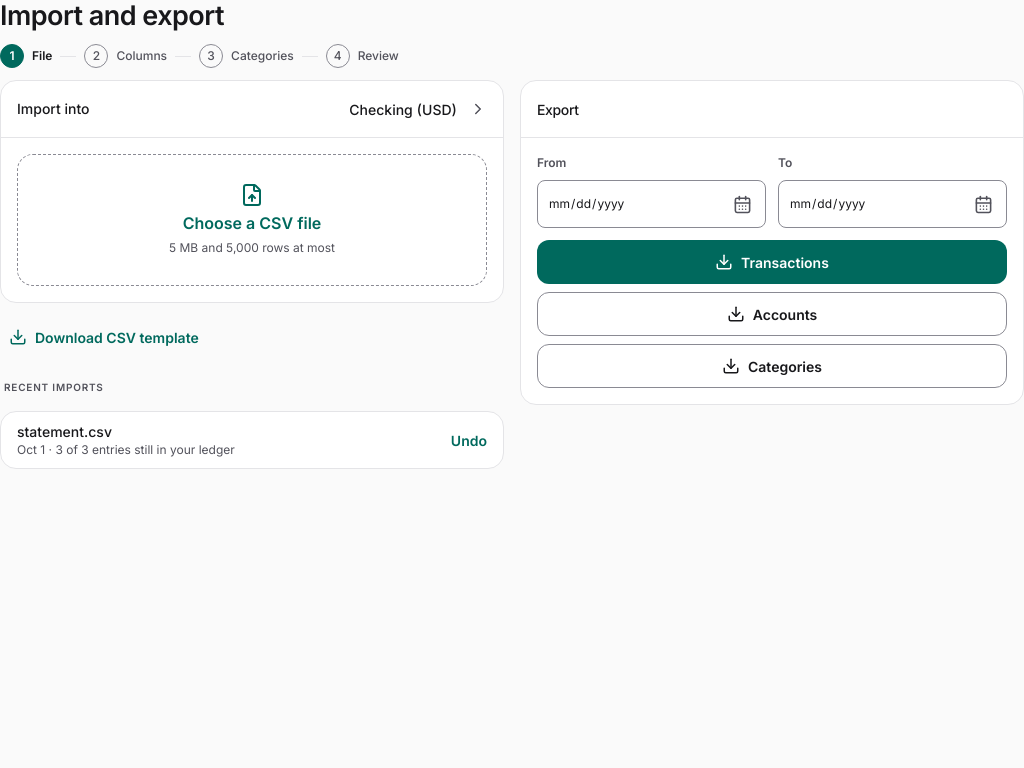
Scenario: ImportPage › asks before undoing in a centred question and does nothing when the owner keeps the entries
Expected: the heading "Recent imports" is shown, [4, 381, 104, 393]
Click the button "statement.csv": (64,431) [1, 412, 503, 468]
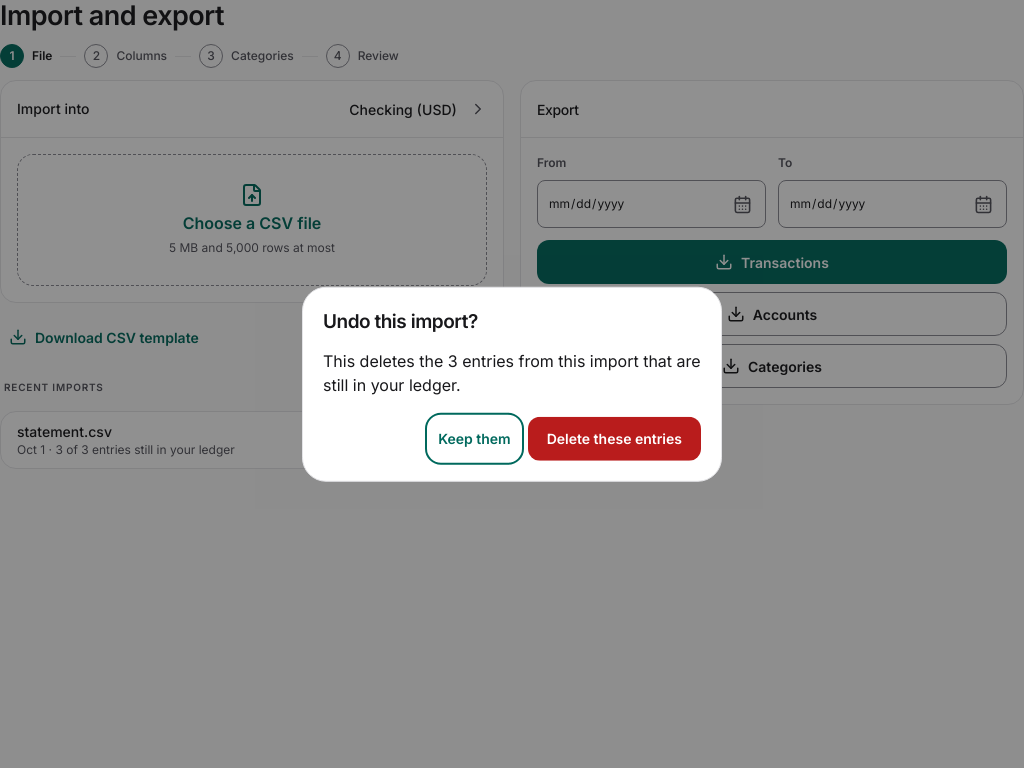
Click the button "Keep them": (474,438) [429, 416, 520, 460]
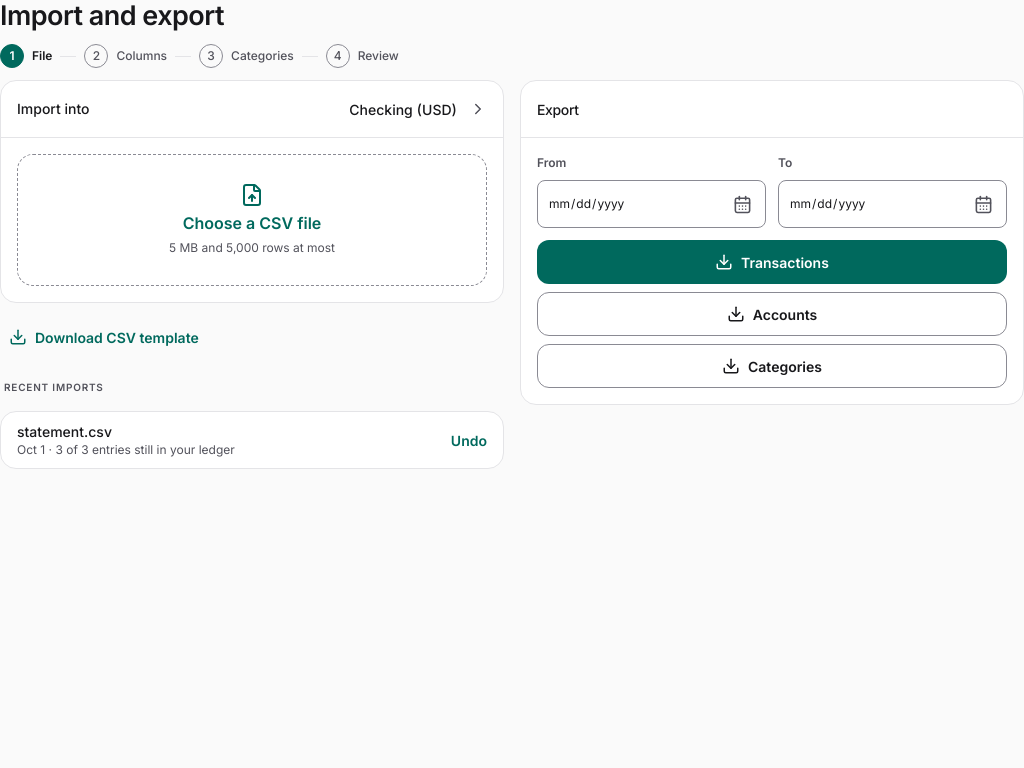
Expected: the heading "Undo this import?" is gone
